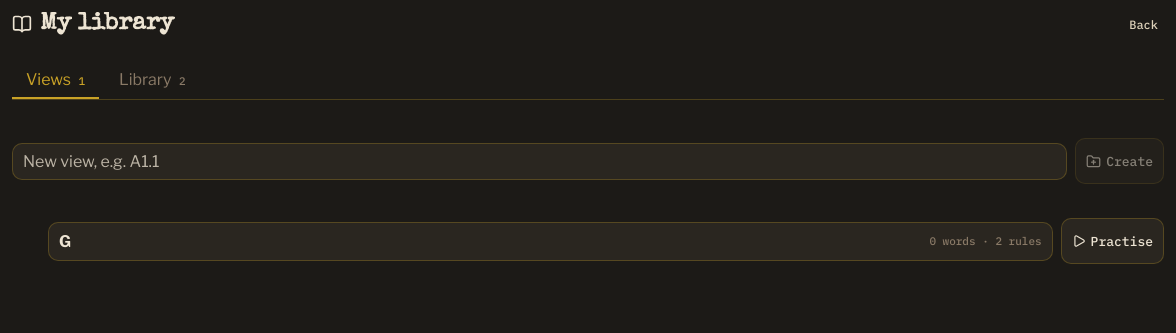
the library (all my words) and the views › the Library tab counts grammar rules too, and shows them when there are no words
Click the tab "Library 2".
click(152, 80)  # box [105,62,200,99]
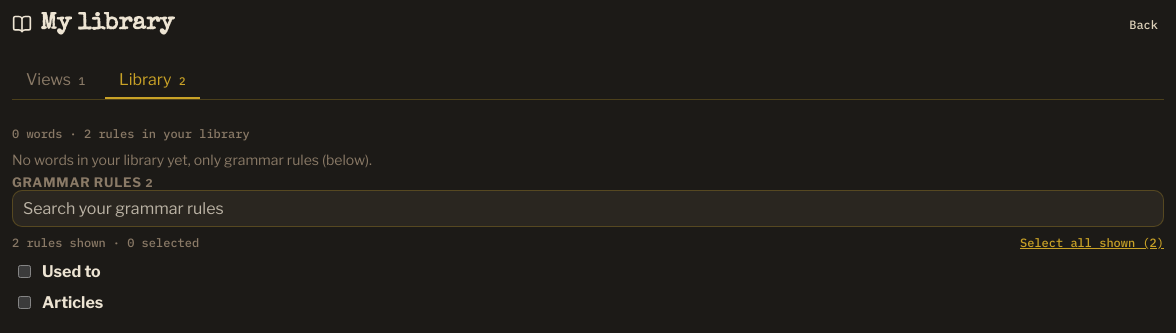
Expected: the element with class "lib-words" shows "0 words · 2 rules in your library", [12,126,1164,316]
Expected: the element with class "lib-rules" shows "Used to", [42,262,101,281]
